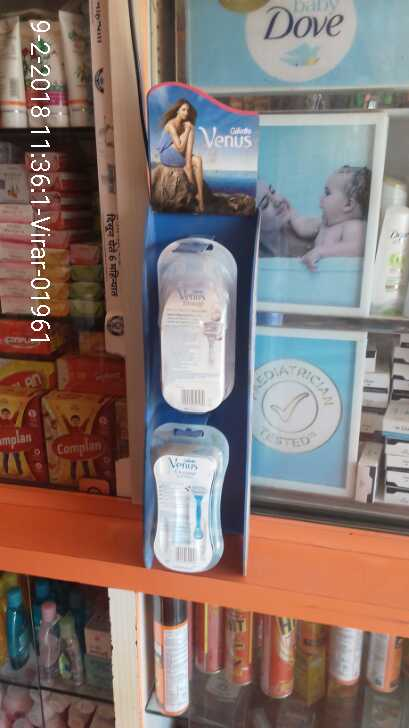reject: (149, 234, 261, 451)
